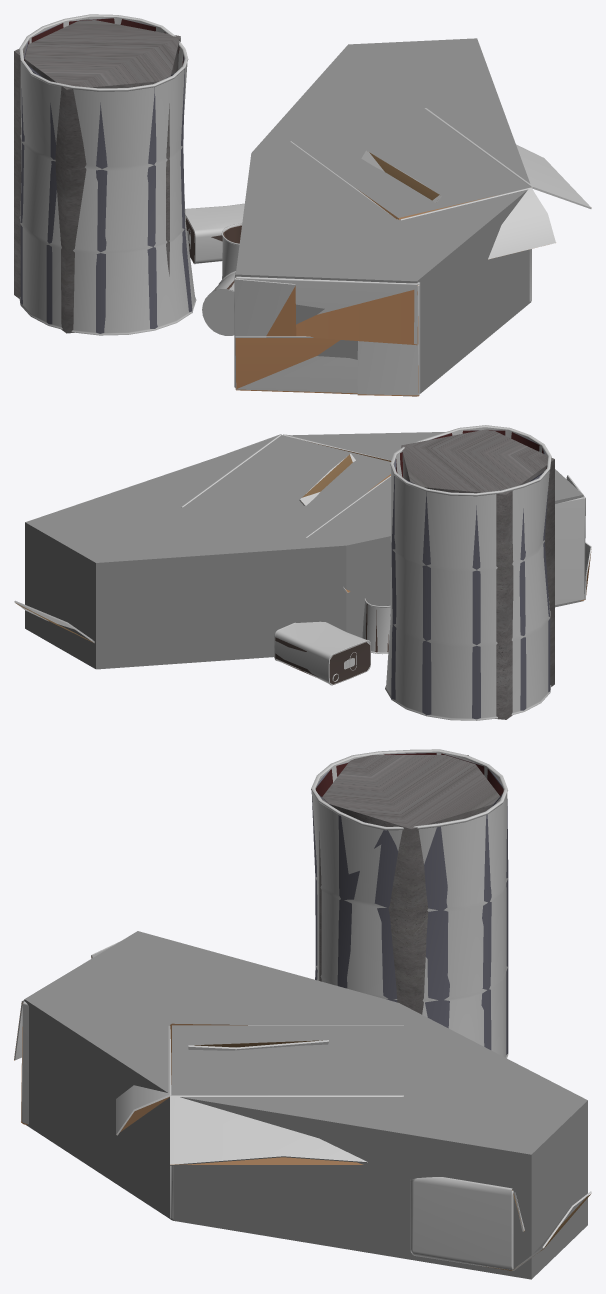
The model's file is ind_clutter_mix.DAE.
The picture shows the model from 3 angles, top to bottom: view 1: azimuth 30°, elevation 25°; view 2: azimuth 150°, elevation 25°; view 3: azimuth 270°, elevation 25°; orthographic projection. The views are drawn at different scales.
Visible parts, largest first — view 1: Colmesh-1, ind_clutter_mix250, ind_clutter_mix90; view 2: Colmesh-1, ind_clutter_mix250, ind_clutter_mix90; view 3: Colmesh-1, ind_clutter_mix250, ind_clutter_mix90.
Boxes of the visible parts, bbox=[...] form: Colmesh-1: bbox=[14, 18, 531, 396]; ind_clutter_mix250: bbox=[19, 14, 591, 395]; ind_clutter_mix90: bbox=[20, 18, 493, 396]; Colmesh-1: bbox=[25, 429, 583, 719]; ind_clutter_mix250: bbox=[14, 425, 591, 720]; ind_clutter_mix90: bbox=[15, 430, 591, 719]; Colmesh-1: bbox=[24, 755, 587, 1279]; ind_clutter_mix250: bbox=[14, 749, 591, 1270]; ind_clutter_mix90: bbox=[14, 753, 591, 1270].
Size of the model in its own units: 190 by 172 by 87.75.
